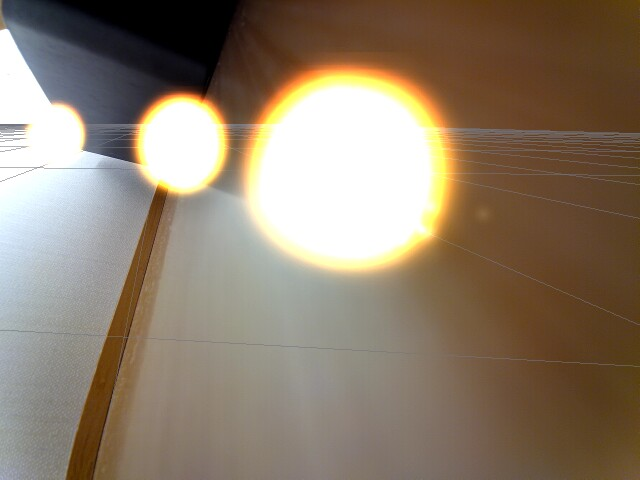firebig: (242, 60, 458, 271)
